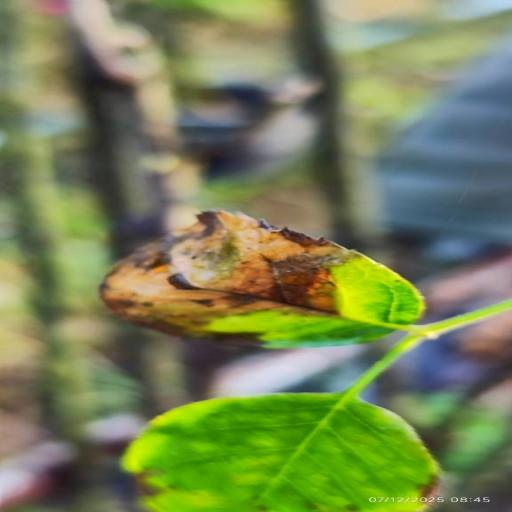thrip: (101, 210, 423, 346)
